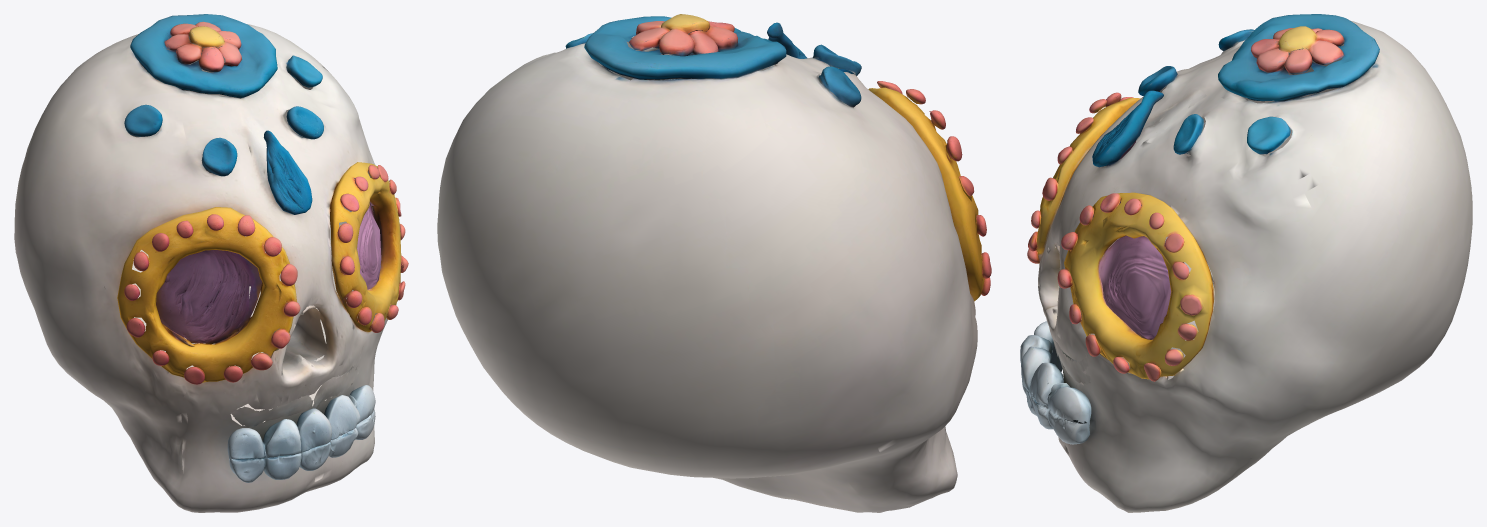
Rendered from Stack 5B - Candy Skul.glb.
The picture shows the model from 3 angles, left to right: view 1: azimuth 30°, elevation 25°; view 2: azimuth 150°, elevation 25°; view 3: azimuth 270°, elevation 25°; orthographic projection. The views are drawn at different scales.
Visible parts, largest first — view 1: Candy Skul part 1, Candy Skul part 2, Candy Skul part 24, Candy Skul part 35, Candy Skul part 13, Candy Skul part 55, Candy Skul part 46, Candy Skul part 11, Candy Skul part 58, Candy Skul part 4, Candy Skul part 25, Candy Skul part 15 (+14 smaller); view 2: Candy Skul part 1, Candy Skul part 35, Candy Skul part 2, Candy Skul part 14, Candy Skul part 17, Candy Skul part 10, Candy Skul part 15; view 3: Candy Skul part 1, Candy Skul part 13, Candy Skul part 35, Candy Skul part 11, Candy Skul part 2, Candy Skul part 55, Candy Skul part 14, Candy Skul part 5, Candy Skul part 9, Candy Skul part 56, Candy Skul part 3, Candy Skul part 16 (+4 smaller).
Boxes of the visible parts, x1=… form: Candy Skul part 1: x1=14, y1=24, x2=391, y2=512; Candy Skul part 2: x1=117, y1=207, x2=296, y2=382; Candy Skul part 24: x1=156, y1=250, x2=261, y2=344; Candy Skul part 35: x1=130, y1=14, x2=277, y2=98; Candy Skul part 13: x1=330, y1=162, x2=401, y2=331; Candy Skul part 55: x1=263, y1=130, x2=312, y2=214; Candy Skul part 46: x1=263, y1=303, x2=327, y2=369; Candy Skul part 11: x1=357, y1=203, x2=381, y2=289; Candy Skul part 58: x1=263, y1=419, x2=301, y2=458; Candy Skul part 4: x1=296, y1=408, x2=332, y2=452; Candy Skul part 25: x1=230, y1=395, x2=311, y2=427; Candy Skul part 15: x1=201, y1=137, x2=237, y2=176; Candy Skul part 1: x1=437, y1=37, x2=977, y2=512; Candy Skul part 35: x1=584, y1=16, x2=786, y2=80; Candy Skul part 2: x1=868, y1=87, x2=984, y2=301; Candy Skul part 14: x1=629, y1=14, x2=709, y2=56; Candy Skul part 17: x1=689, y1=25, x2=737, y2=54; Candy Skul part 10: x1=818, y1=66, x2=861, y2=107; Candy Skul part 15: x1=813, y1=44, x2=861, y2=75; Candy Skul part 1: x1=1038, y1=20, x2=1472, y2=512; Candy Skul part 13: x1=1064, y1=192, x2=1214, y2=379; Candy Skul part 35: x1=1218, y1=14, x2=1379, y2=101; Candy Skul part 11: x1=1099, y1=235, x2=1189, y2=339; Candy Skul part 2: x1=1036, y1=97, x2=1140, y2=260; Candy Skul part 55: x1=1092, y1=90, x2=1163, y2=167; Candy Skul part 14: x1=1278, y1=26, x2=1344, y2=64; Candy Skul part 5: x1=1048, y1=383, x2=1091, y2=423; Candy Skul part 9: x1=1247, y1=116, x2=1290, y2=154; Candy Skul part 56: x1=1029, y1=362, x2=1063, y2=405; Candy Skul part 3: x1=1048, y1=410, x2=1089, y2=444; Candy Skul part 16: x1=1173, y1=114, x2=1204, y2=154.
Size of the model in its own units: 0.8853 by 1 by 0.9224.
Materials: 58 (58 with a texture image).
